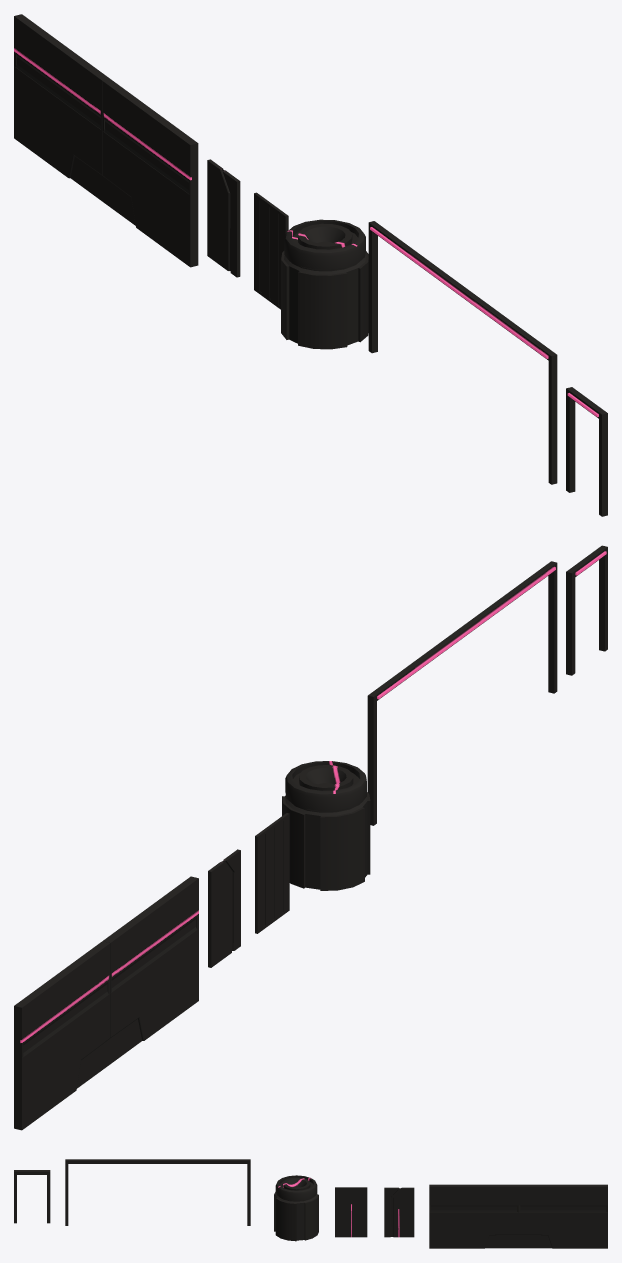
The model's file is Barril_Puertas_Marcos.fbx.
3 renders of one model, top to bottom at view 1: azimuth 30°, elevation 25°; view 2: azimuth 150°, elevation 25°; view 3: azimuth 270°, elevation 25°, orthographic. The views are drawn at different scales.
Parts seen in each view (by area): view 1: Cube.008, Cylinder, Cube.023, Cube.003, Cube.010, Cube.004; view 2: Cube.008, Cylinder, Cube.023, Cube.010, Cube.003, Cube.004; view 3: Cube.008, Cylinder, Cube.010, Cube.003, Cube.023, Cube.004.
Boxes of the visible parts, left/top/right/bottom form: Cube.008: left=14, top=14, right=198, bottom=267; Cylinder: left=281, top=219, right=368, bottom=349; Cube.023: left=368, top=221, right=557, bottom=484; Cube.003: left=207, top=159, right=240, bottom=277; Cube.010: left=254, top=192, right=288, bottom=309; Cube.004: left=566, top=387, right=607, bottom=516; Cube.008: left=14, top=876, right=198, bottom=1130; Cylinder: left=282, top=761, right=370, bottom=890; Cube.023: left=367, top=561, right=557, bottom=825; Cube.010: left=255, top=813, right=289, bottom=933; Cube.003: left=208, top=849, right=240, bottom=967; Cube.004: left=566, top=545, right=607, bottom=675; Cube.008: left=429, top=1184, right=607, bottom=1248; Cylinder: left=274, top=1175, right=318, bottom=1241; Cube.010: left=335, top=1187, right=367, bottom=1237; Cube.003: left=384, top=1187, right=414, bottom=1237; Cube.023: left=65, top=1159, right=250, bottom=1225; Cube.004: left=14, top=1170, right=50, bottom=1223.
Bounding box in the file's own units: 10.94 × 23.57 × 144.
Materials: 5 (5 with a texture image).
